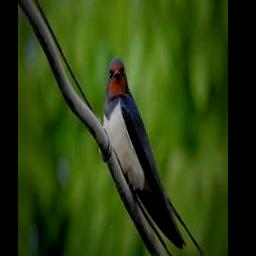Swallow: (103, 56, 206, 256)
